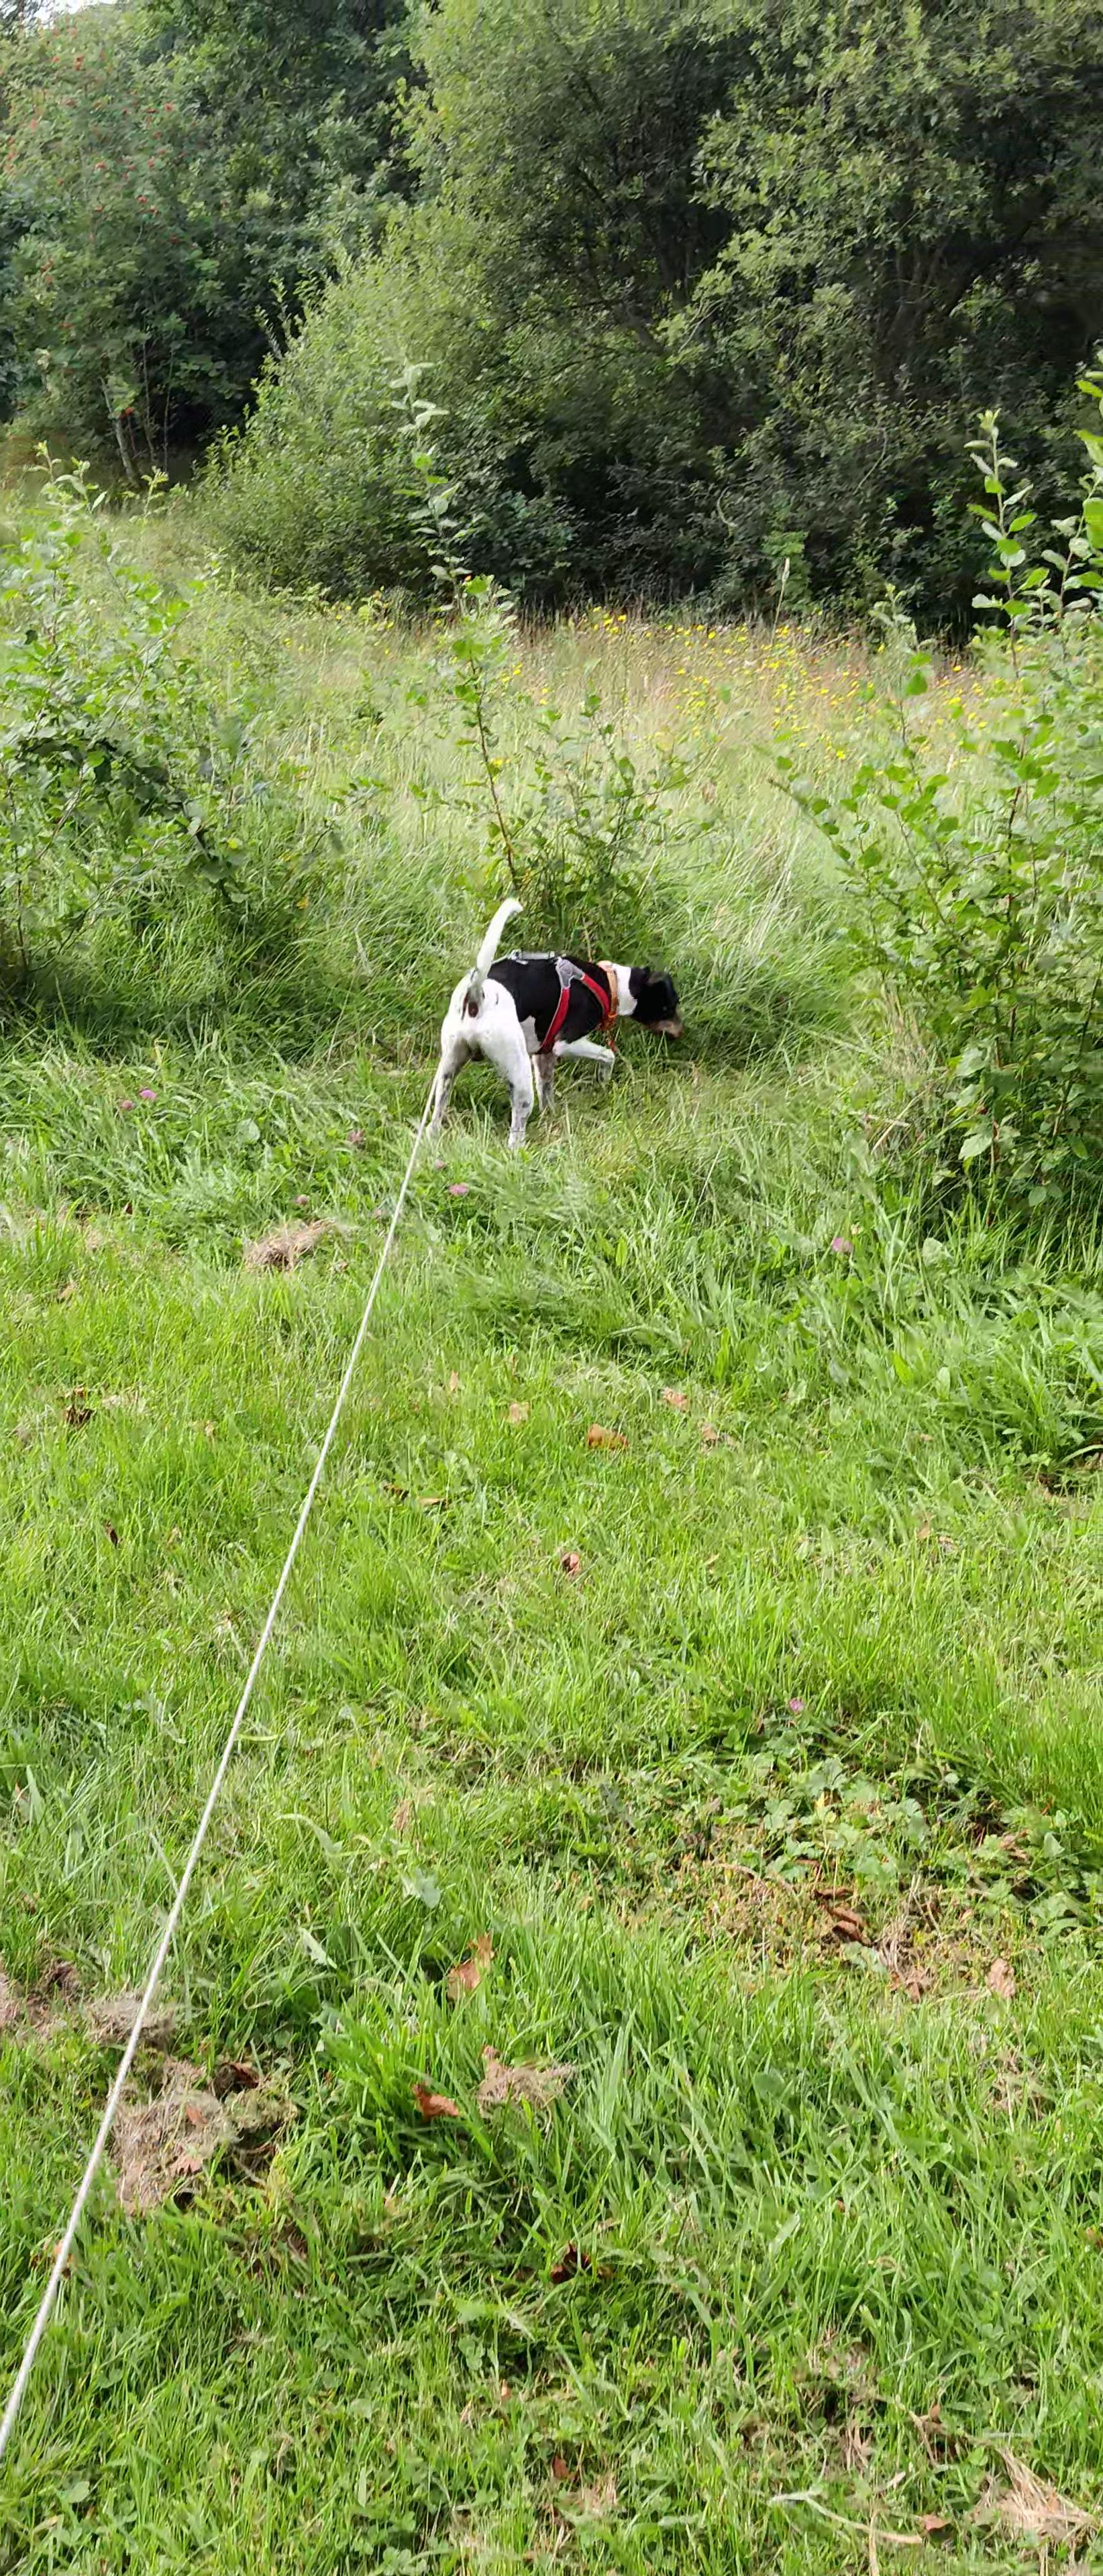Dog: (421, 894, 694, 1158)
